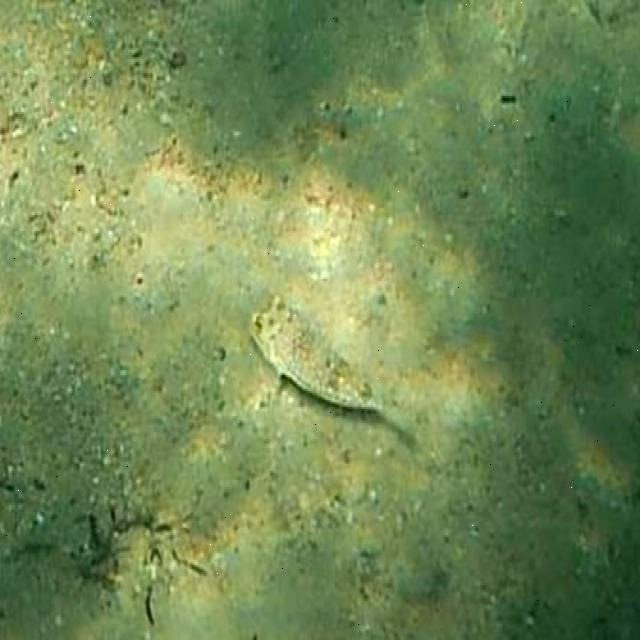Balik: (251, 297, 415, 447)
